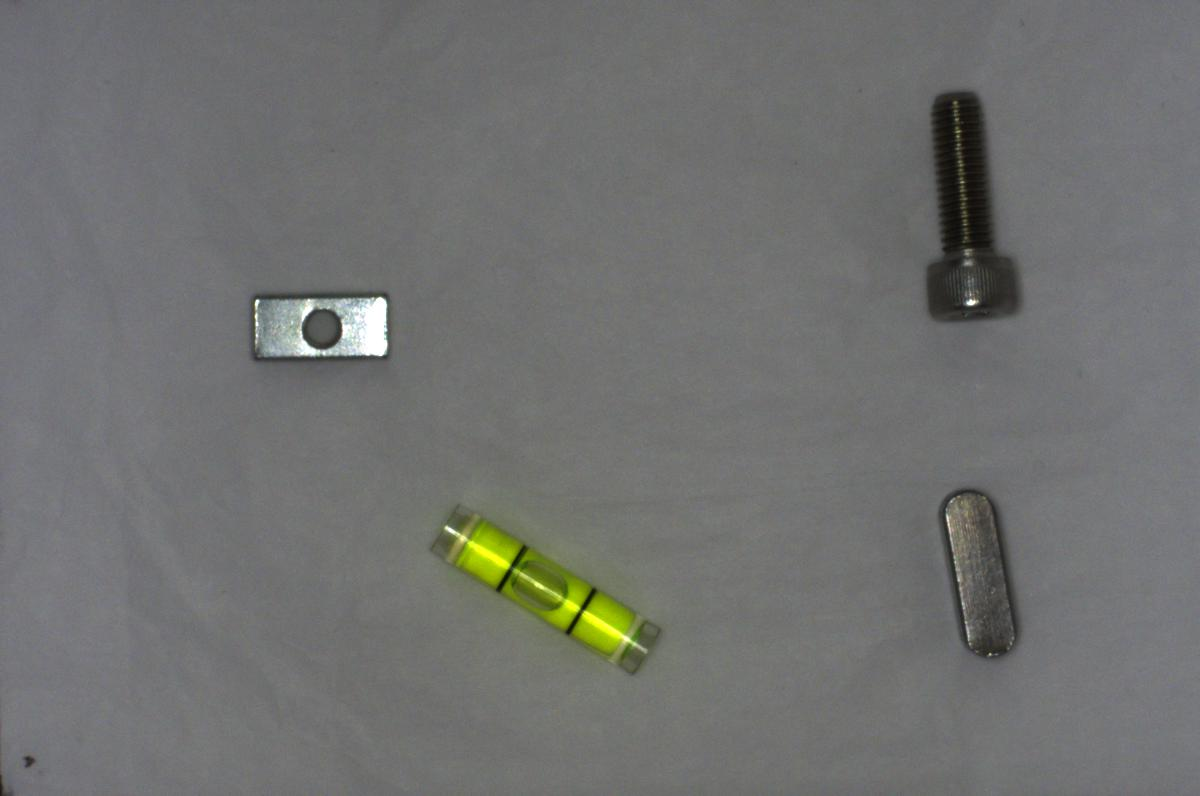Hexagon screw: (908, 80, 1032, 336)
Horizontal bubble: (422, 498, 666, 682)
Keybar: (934, 486, 1034, 670)
Rectangular nut: (241, 283, 404, 374)
